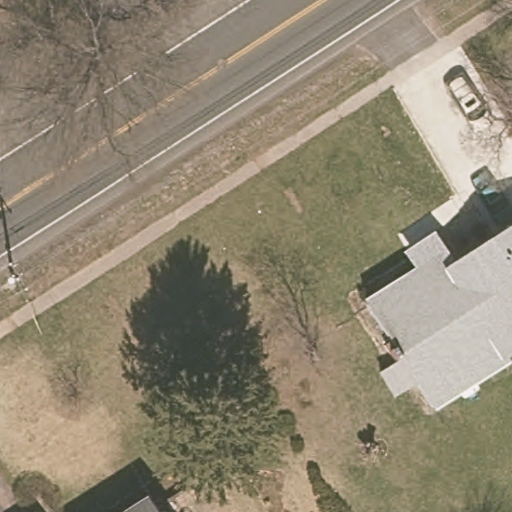DT: (3, 259, 30, 293)
